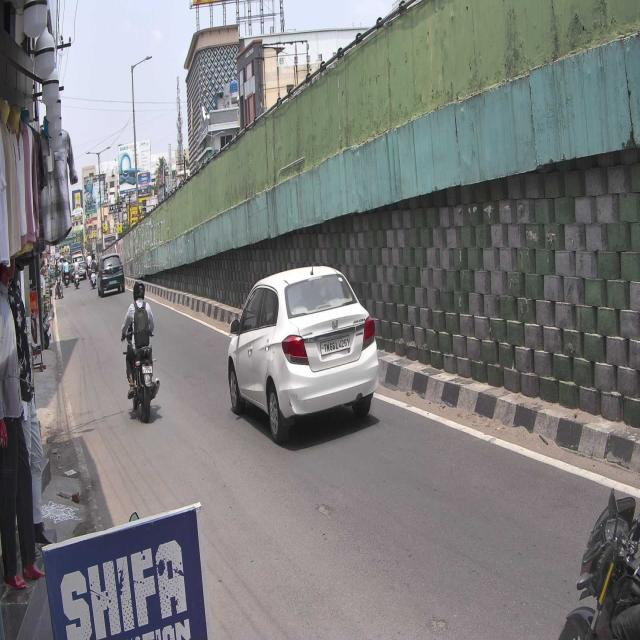single_rider: (120, 279, 161, 427)
